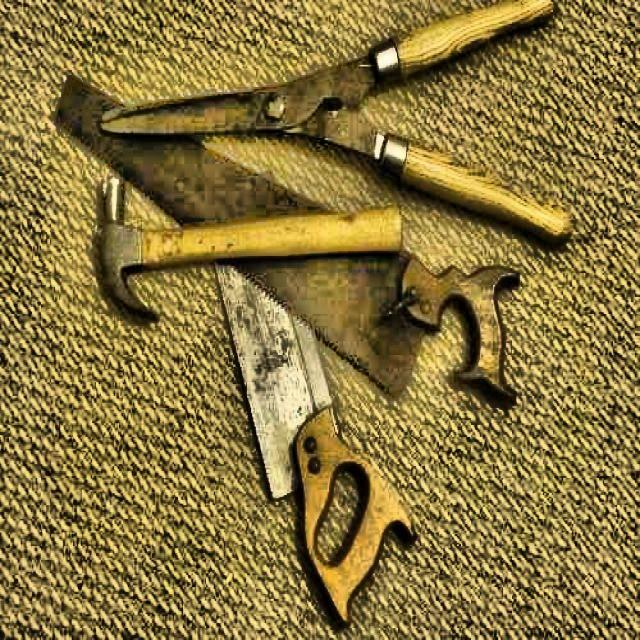hammer: (93, 178, 405, 328)
